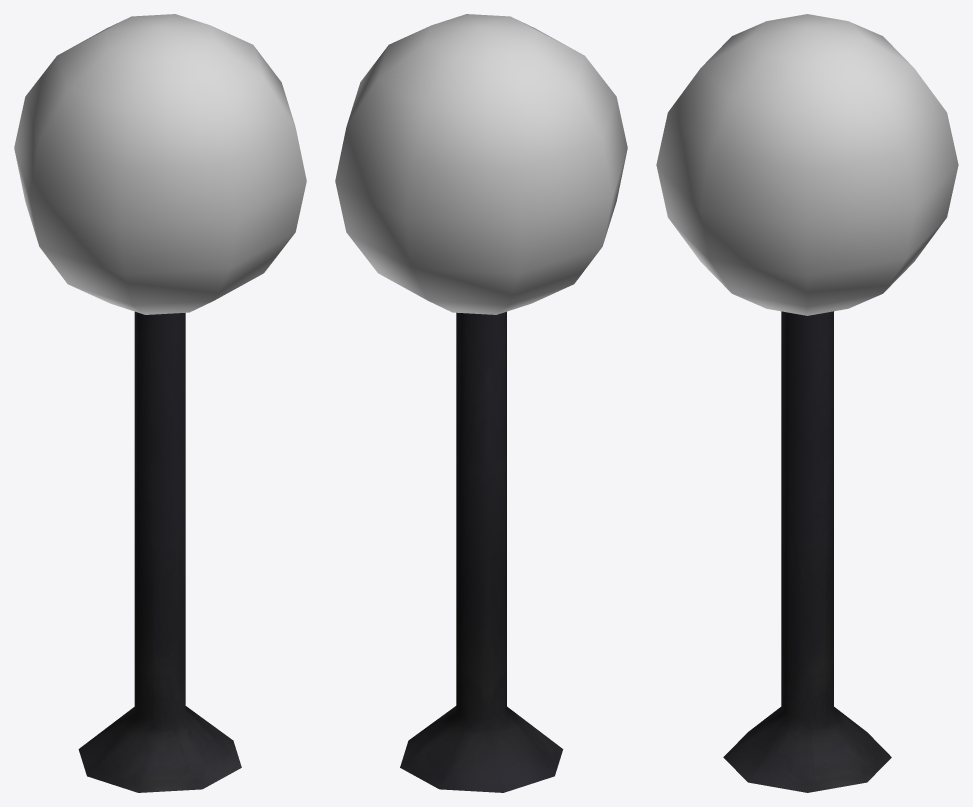
Rendered from coisa eletrica.fbx.
3 views of the same model, side by side, from view 1: azimuth 30°, elevation 25°; view 2: azimuth 150°, elevation 25°; view 3: azimuth 270°, elevation 25° (orthographic).
Parts seen in each view (by area): view 1: GloboDeEnergia; view 2: GloboDeEnergia; view 3: GloboDeEnergia.
Boxes of the visible parts, x1=… form: GloboDeEnergia: x1=14, y1=14, x2=306, y2=792; GloboDeEnergia: x1=335, y1=14, x2=627, y2=792; GloboDeEnergia: x1=656, y1=14, x2=958, y2=792.
Size of the model in its own units: 0.997 by 2.65 by 0.997.
